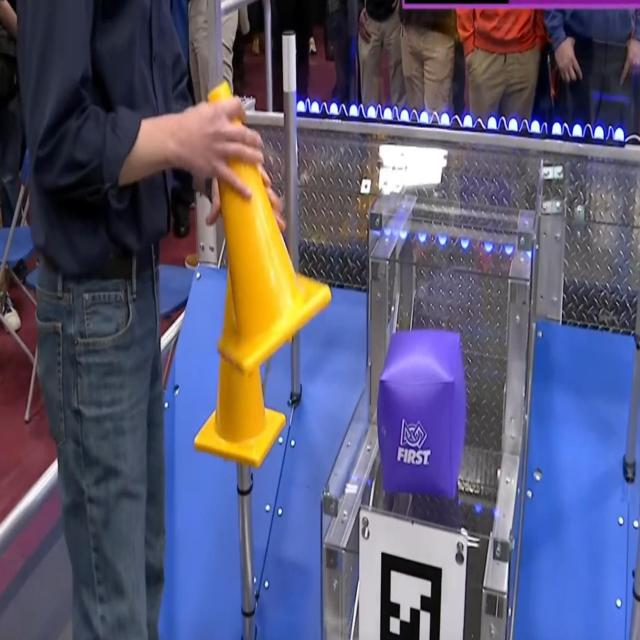frc_cone: (206, 77, 332, 372), (195, 264, 291, 470)
frc_cube: (378, 332, 468, 500)
